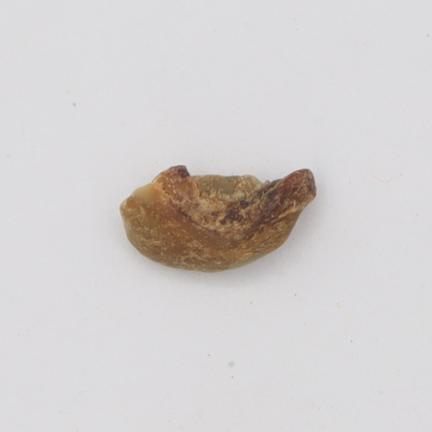shell: (121, 166, 315, 270)
